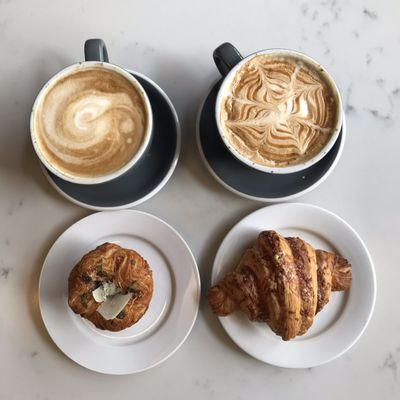pizza: (213, 44, 343, 174)
sushi: (214, 45, 344, 173)
